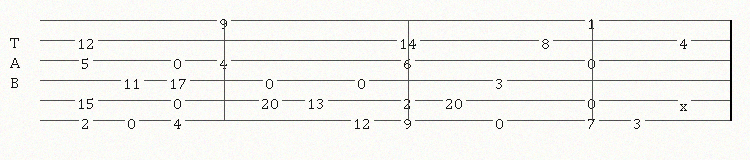0: (127, 113, 140, 127), (173, 93, 186, 107), (173, 53, 186, 67), (265, 73, 278, 87), (357, 73, 370, 87), (495, 113, 508, 127), (587, 53, 600, 67), (587, 93, 600, 107)
1: (587, 13, 600, 27)
11: (123, 73, 145, 87)
12: (77, 33, 99, 47), (353, 113, 375, 127)
13: (307, 93, 329, 107)
14: (399, 33, 421, 47)
15: (77, 93, 99, 108)
17: (169, 73, 191, 87)
2: (81, 113, 94, 127), (403, 93, 416, 107)
20: (261, 93, 283, 107), (445, 93, 467, 107)
3: (495, 73, 508, 87), (633, 113, 646, 127)
4: (173, 113, 186, 127), (219, 53, 232, 67), (679, 33, 692, 47)
5: (81, 53, 94, 68)
6: (403, 53, 416, 67)
7: (587, 113, 600, 127)
8: (541, 33, 554, 47)
9: (219, 13, 232, 27), (403, 113, 416, 127)
x: (680, 95, 692, 106)
